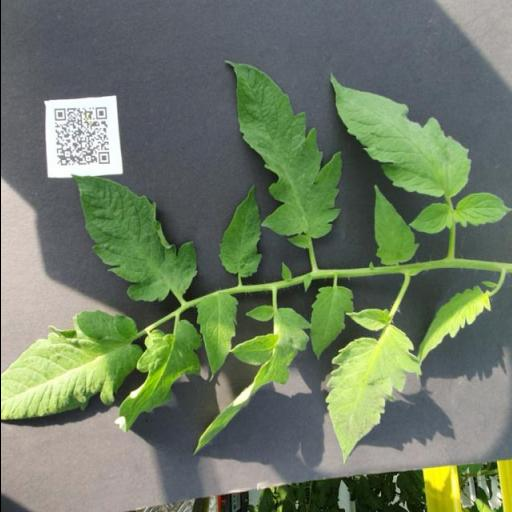Healthy: (328, 74, 510, 234), (222, 60, 342, 240), (190, 304, 310, 460), (70, 173, 198, 303), (0, 309, 143, 424), (324, 325, 422, 466), (112, 320, 202, 434), (416, 285, 490, 366), (214, 184, 262, 279), (195, 291, 239, 382), (372, 183, 420, 266), (308, 286, 354, 362)
